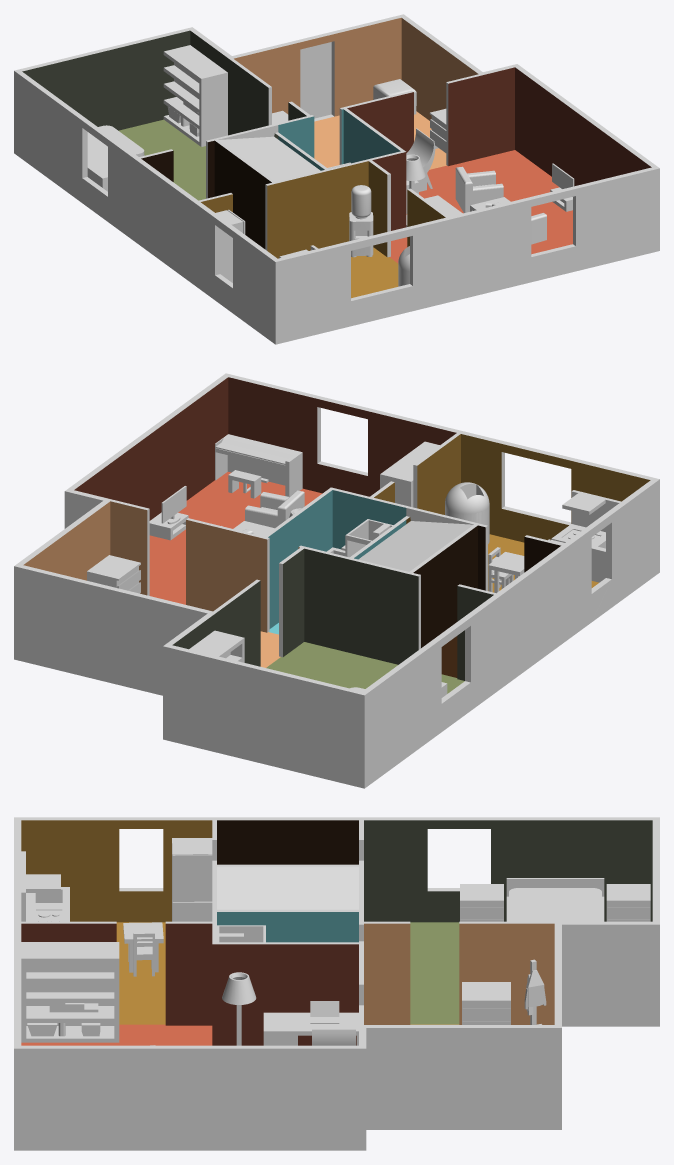
The model's file is furniture.fbx.
3 renders of one model, top to bottom at view 1: azimuth 30°, elevation 25°; view 2: azimuth 150°, elevation 25°; view 3: azimuth 270°, elevation 25°, orthographic. The views are drawn at different scales.
Parts seen in each view (by area): view 1: План, Level2221 - Shakf-1, Level2221 - Cchair-1.001, Level2221 - Kuler-1.001, Level2221 - Krovat -1.001, level2221 - Holodilnik-1.001, Level2221 - Chair-1.001, Level2221 - Tumba-4, level2221 - TV-2, Level2221 - Puff-1, Level2221 - Lamp-1.001; view 2: План, Level2221 - Piano-1.001, Level2221 - Kitchen-1.001, Level2221 - Trash-2, Level2221 - Shakf-2, Level2221 - Tumba-4, Level2221 - Cchair-2, level2221 - TV-2, Level2221 - Stol-1, Level2221 - Shakf-1, Level2221 - Shower-1; view 3: План, Level2221 - Shakf-2, Level2221 - Krovat -1.001, level2221 - Holodilnik-1.001, level2221 - csrolSLDPRT-1.001, Level2221 - Kitchen-1.001, Level2221 - Tumba-3, Level2221 - Tumba-1, Level2221 - Tumba-2, Level2221 - Stol-1, Level2221 - Lamp-1.001, Level2221 - Veshalakaka-1 (+2 smaller).
Part boxes in pixels (x1,y1,x2,y2): План: [14, 14, 659, 344]; Level2221 - Shakf-1: [163, 45, 227, 146]; Level2221 - Cchair-1.001: [455, 166, 503, 212]; Level2221 - Kuler-1.001: [349, 185, 373, 257]; Level2221 - Krovat -1.001: [87, 125, 144, 164]; level2221 - Holodilnik-1.001: [216, 209, 245, 282]; Level2221 - Chair-1.001: [406, 128, 435, 191]; Level2221 - Tumba-4: [429, 108, 446, 152]; level2221 - TV-2: [550, 163, 574, 211]; Level2221 - Puff-1: [373, 79, 416, 114]; Level2221 - Lamp-1.001: [406, 154, 425, 227]; План: [14, 373, 659, 788]; Level2221 - Piano-1.001: [215, 434, 302, 498]; Level2221 - Kitchen-1.001: [551, 490, 620, 582]; Level2221 - Trash-2: [445, 482, 489, 543]; Level2221 - Shakf-2: [380, 441, 439, 507]; Level2221 - Tumba-4: [87, 555, 140, 593]; Level2221 - Cchair-2: [245, 490, 304, 528]; level2221 - TV-2: [149, 486, 188, 540]; Level2221 - Stol-1: [488, 547, 524, 593]; Level2221 - Shakf-1: [189, 630, 244, 662]; Level2221 - Shower-1: [345, 519, 393, 557]; План: [14, 817, 659, 1150]; Level2221 - Shakf-2: [21, 942, 119, 1042]; Level2221 - Krovat -1.001: [506, 878, 604, 921]; level2221 - Holodilnik-1.001: [172, 838, 212, 921]; level2221 - csrolSLDPRT-1.001: [263, 1001, 358, 1045]; Level2221 - Kitchen-1.001: [21, 851, 69, 921]; Level2221 - Tumba-3: [462, 982, 510, 1024]; Level2221 - Tumba-1: [606, 884, 650, 921]; Level2221 - Tumba-2: [460, 884, 503, 921]; Level2221 - Stol-1: [123, 922, 163, 976]; Level2221 - Lamp-1.001: [222, 972, 256, 1045]; Level2221 - Veshalakaka-1: [524, 959, 546, 1024].
Size of the model in its own units: 1120 by 231 by 1320.
